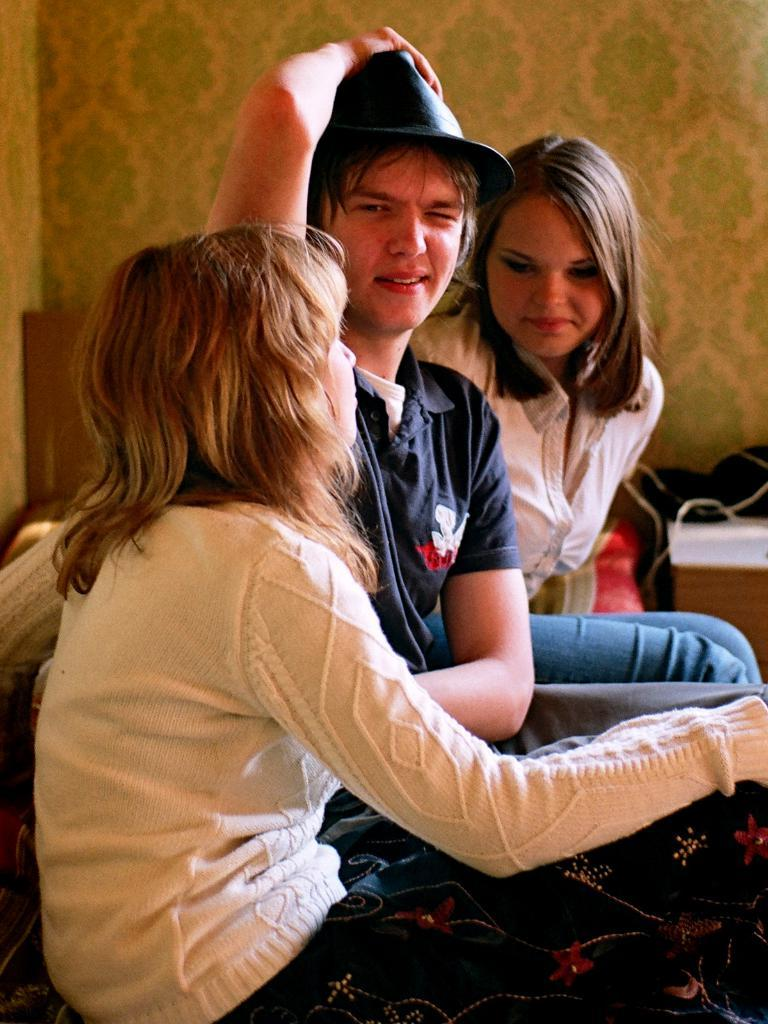Hat: (310, 46, 518, 210)
